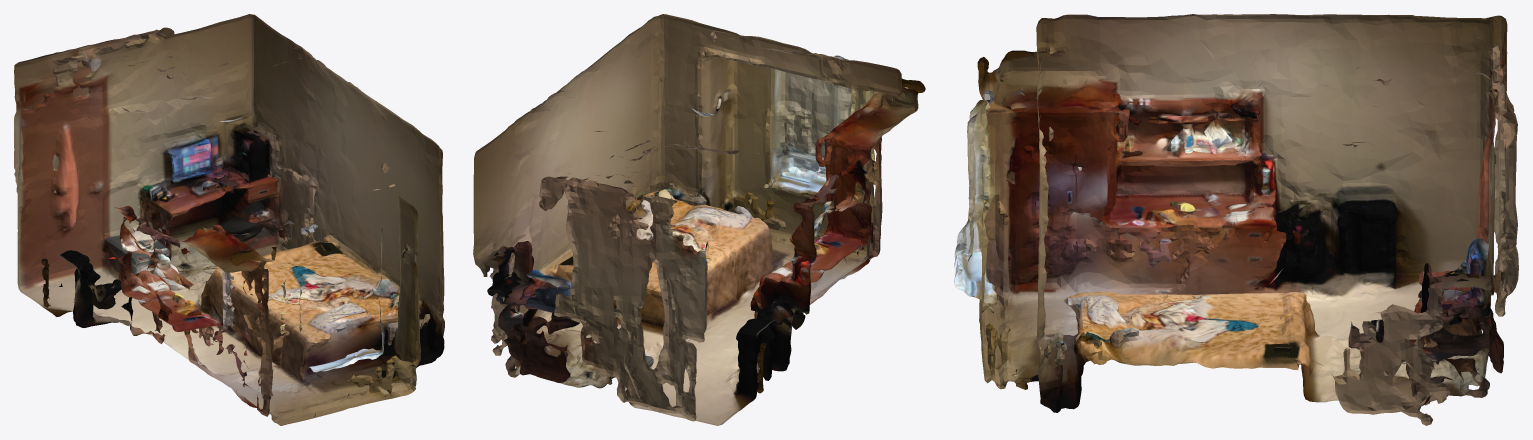
Rendered from polytech_1.glb.
3 views of the same model, side by side, from view 1: azimuth 30°, elevation 25°; view 2: azimuth 150°, elevation 25°; view 3: azimuth 270°, elevation 25° (orthographic). The views are drawn at different scales.
Bounding box in the file's own units: 3.05 × 2.61 × 4.81.
Materials: 1 (1 with a texture image).
